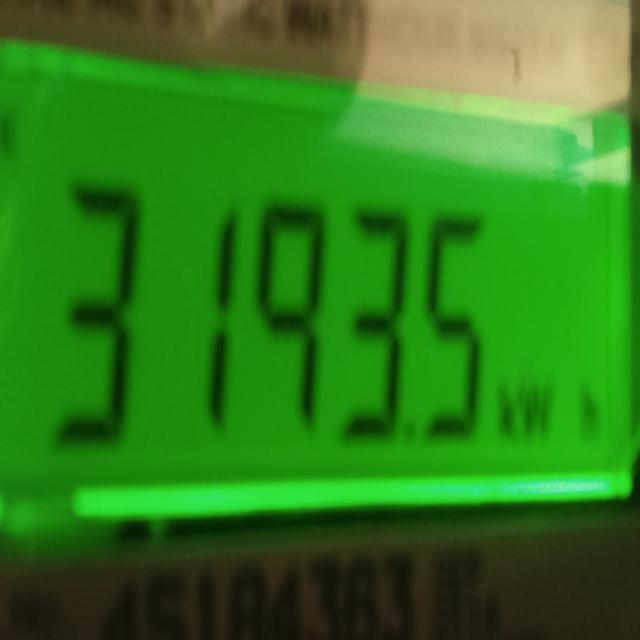.: (402, 415, 416, 445)
1: (207, 206, 235, 433)
3: (55, 183, 139, 447), (344, 212, 406, 436)
5: (428, 217, 480, 436)
9: (259, 200, 321, 430)
